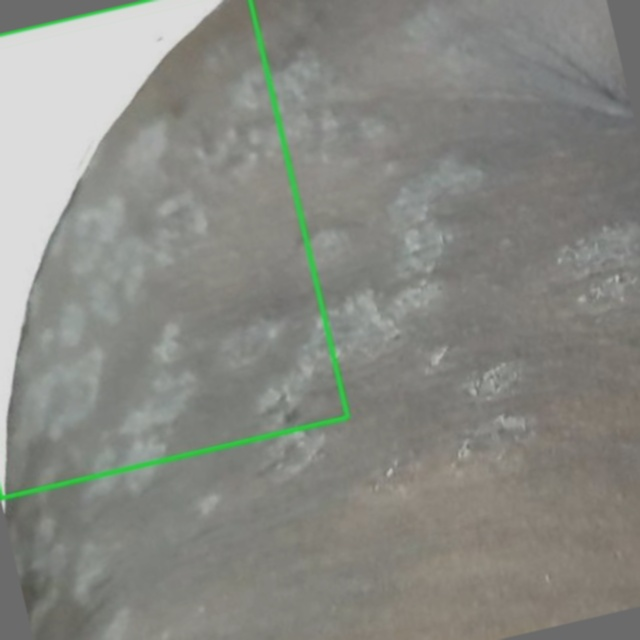Tinea Corporis: (0, 0, 347, 498)
